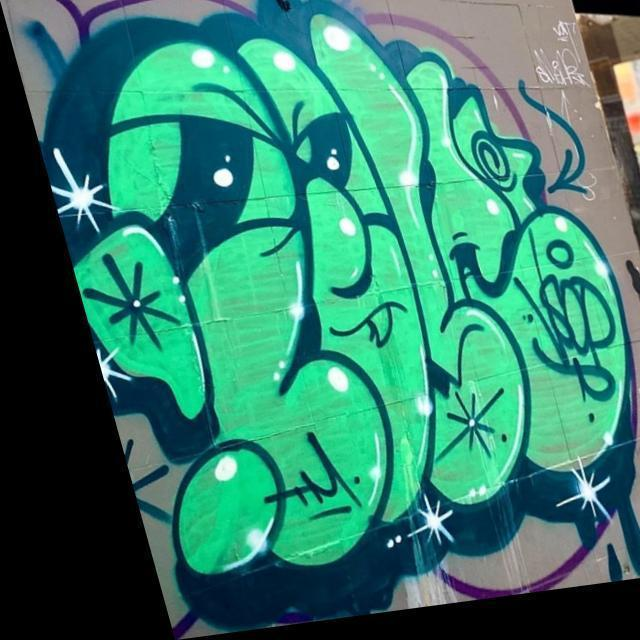nonspitting: (42, 0, 633, 632)
